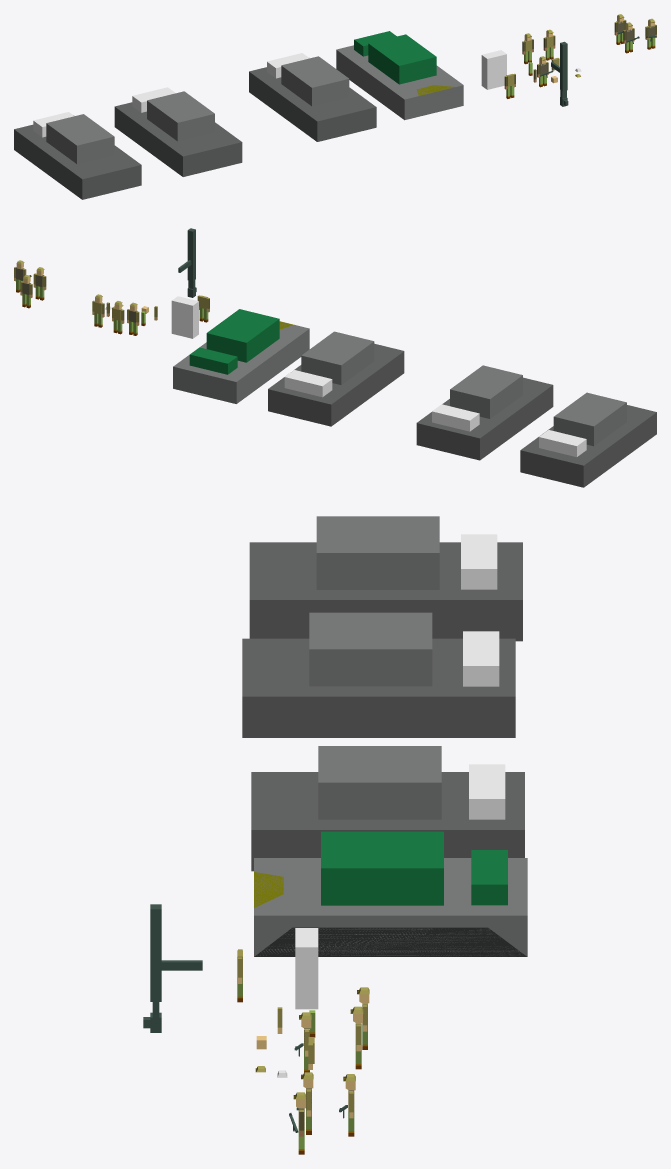
Rendered from units-prod_v2.dae.
The picture shows the model from 3 angles, top to bottom: view 1: azimuth 30°, elevation 25°; view 2: azimuth 150°, elevation 25°; view 3: azimuth 270°, elevation 25°; orthographic projection. The views are drawn at different scales.
Parts seen in each view (by area): view 1: group_3, group_1, group_8, group_11, group_2, group_7, group_10, group_4, SketchUp, group_32, group_5, group_6 (+2 smaller); view 2: group_1, group_8, group_3, group_11, group_4, group_10, group_7, group_2, SketchUp, group_9, group_6, group_5 (+2 smaller); view 3: group_3, group_11 (×2), group_1, group_8, group_4, group_10, group_2, group_7, group_0, group_5, group_6, group_9 (+2 smaller).
Part boxes in pixels (box(x1,y1,x2,y2)): group_3: box(114, 102, 242, 176); group_1: box(14, 115, 141, 199); group_8: box(249, 67, 376, 141); group_11: box(336, 45, 463, 120); group_2: box(46, 114, 114, 164); group_7: box(281, 56, 349, 106); group_10: box(368, 34, 436, 84); group_4: box(147, 91, 214, 141); SketchUp: box(481, 50, 506, 89); group_32: box(560, 41, 567, 106); group_5: box(132, 87, 175, 112); group_6: box(267, 53, 309, 78); group_1: box(520, 405, 656, 487); group_8: box(268, 343, 404, 426); group_3: box(416, 377, 553, 460); group_11: box(173, 325, 309, 403); group_4: box(450, 365, 522, 418); group_10: box(206, 309, 279, 362); group_7: box(301, 331, 374, 385); group_2: box(553, 392, 626, 446); SketchUp: box(171, 296, 198, 338); group_9: box(189, 347, 237, 374); group_6: box(284, 370, 332, 397); group_5: box(432, 404, 479, 431); group_3: box(242, 638, 515, 737); group_11 (×2): box(254, 858, 527, 956); group_1: box(249, 542, 522, 641); group_8: box(251, 772, 524, 871); group_4: box(309, 612, 432, 686); group_10: box(321, 831, 443, 905); group_2: box(316, 516, 439, 589); group_7: box(318, 746, 441, 819); group_0: box(461, 534, 497, 589); group_5: box(463, 631, 499, 686); group_6: box(469, 764, 505, 819); group_9: box(471, 850, 507, 905).
Size of the model in its own units: 117 by 33.16 by 14.17.
